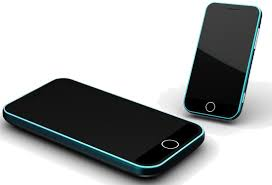mobil: (0, 76, 205, 181), (182, 1, 263, 123)
